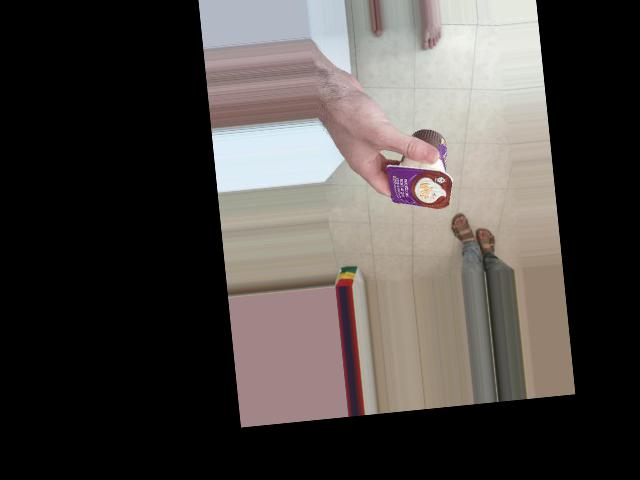milky: (391, 149, 482, 219)
